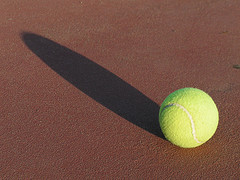tennis ball: (157, 86, 219, 149)
